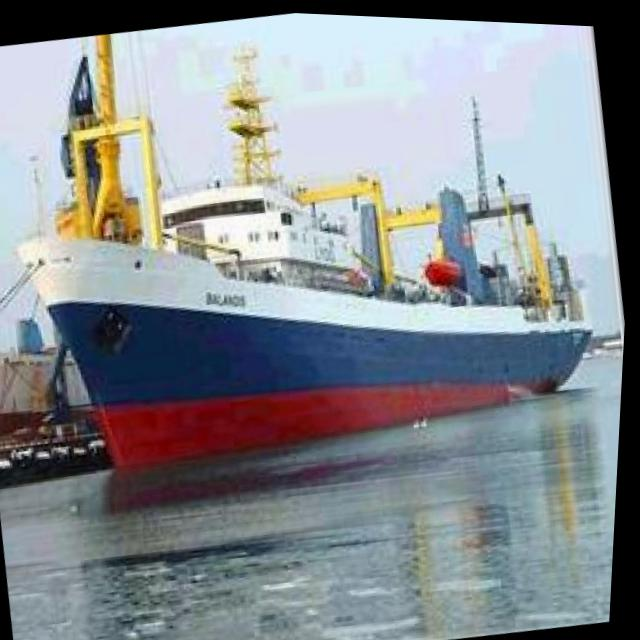ship2: (18, 33, 597, 469)
